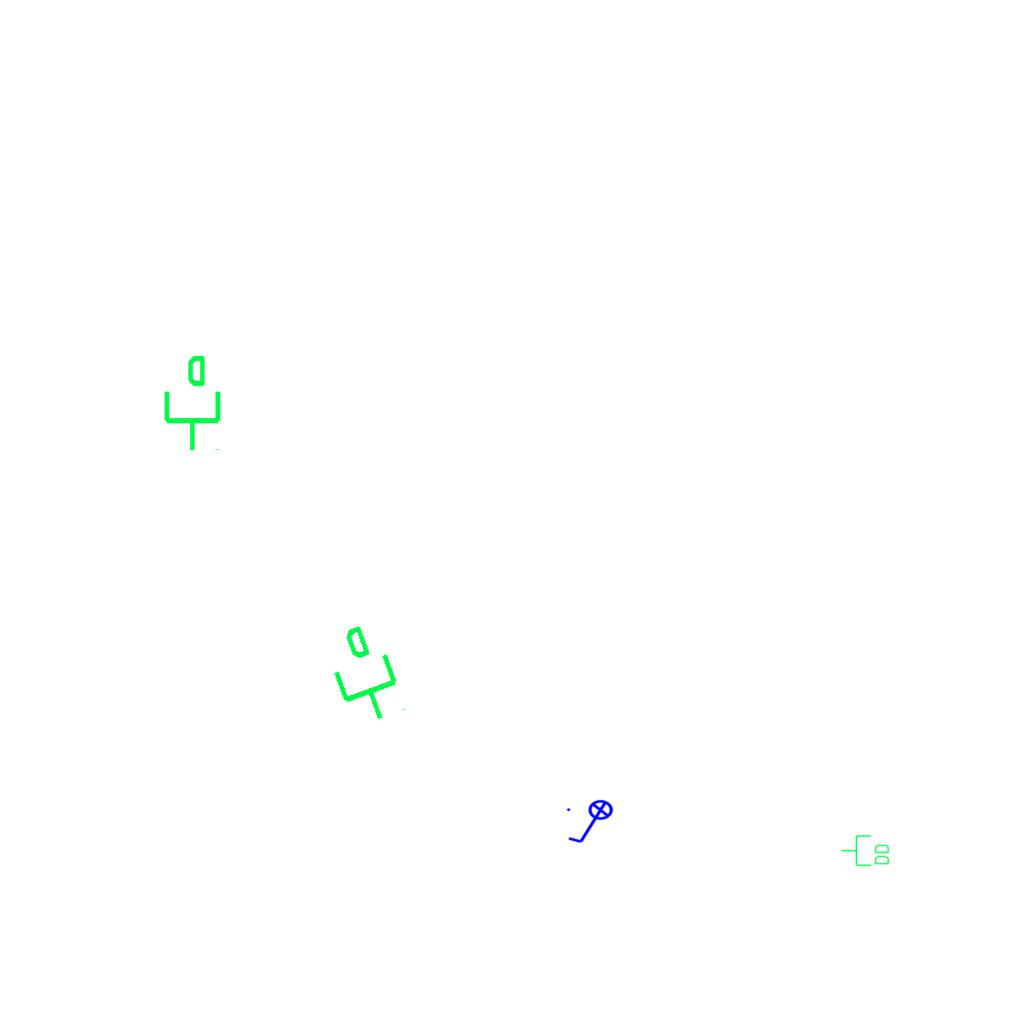Ausschalter_beleuchtet: (564, 799, 620, 847)
Datenanschluss_einfach: (312, 616, 413, 734), (156, 353, 225, 453)
Datenanschluss_zweifach: (840, 834, 891, 868)
